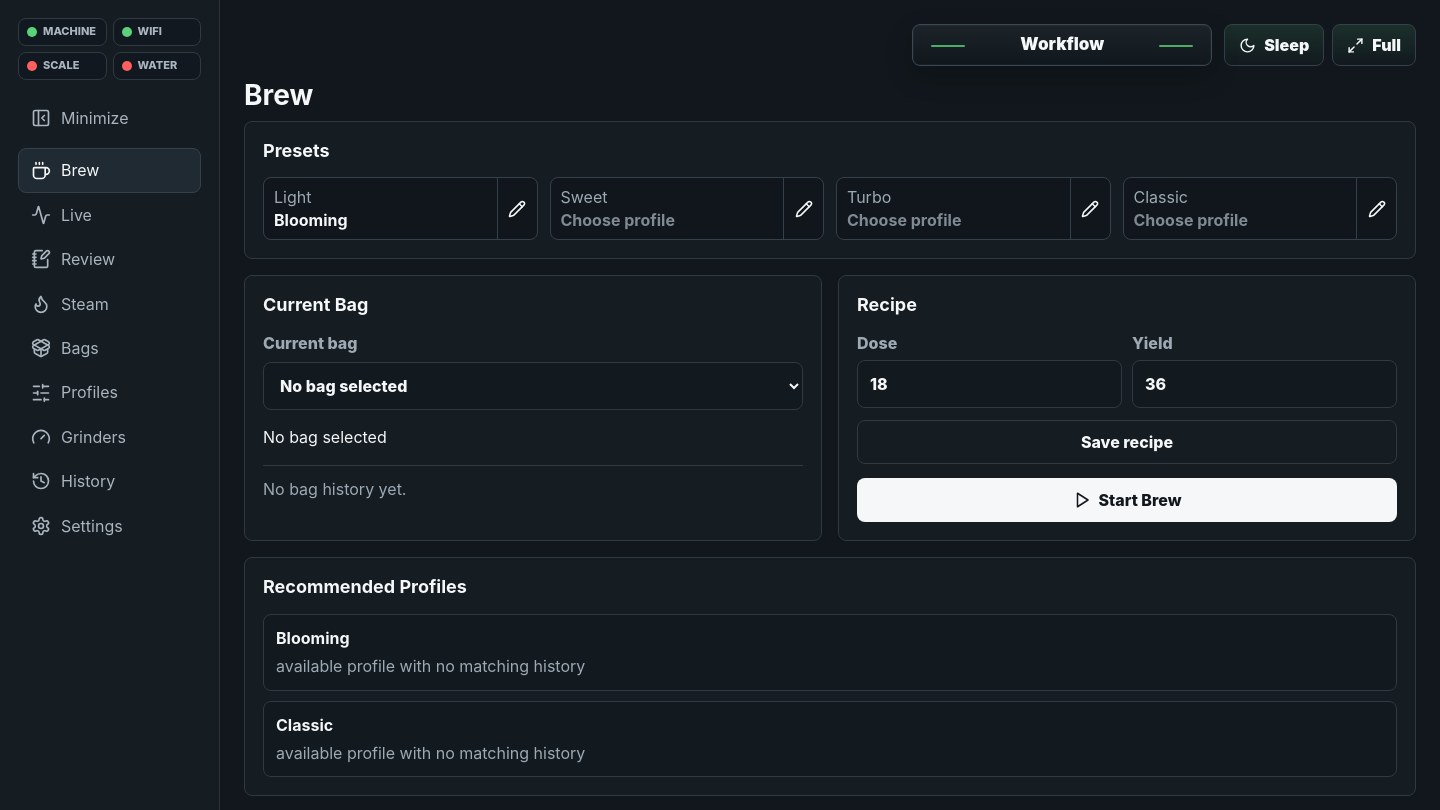
Scenario: App shell › edits main menu visibility and order from the sidebar
Click the button "Settings".
click(110, 526)  # box x1=18 y1=504 x2=201 y2=548
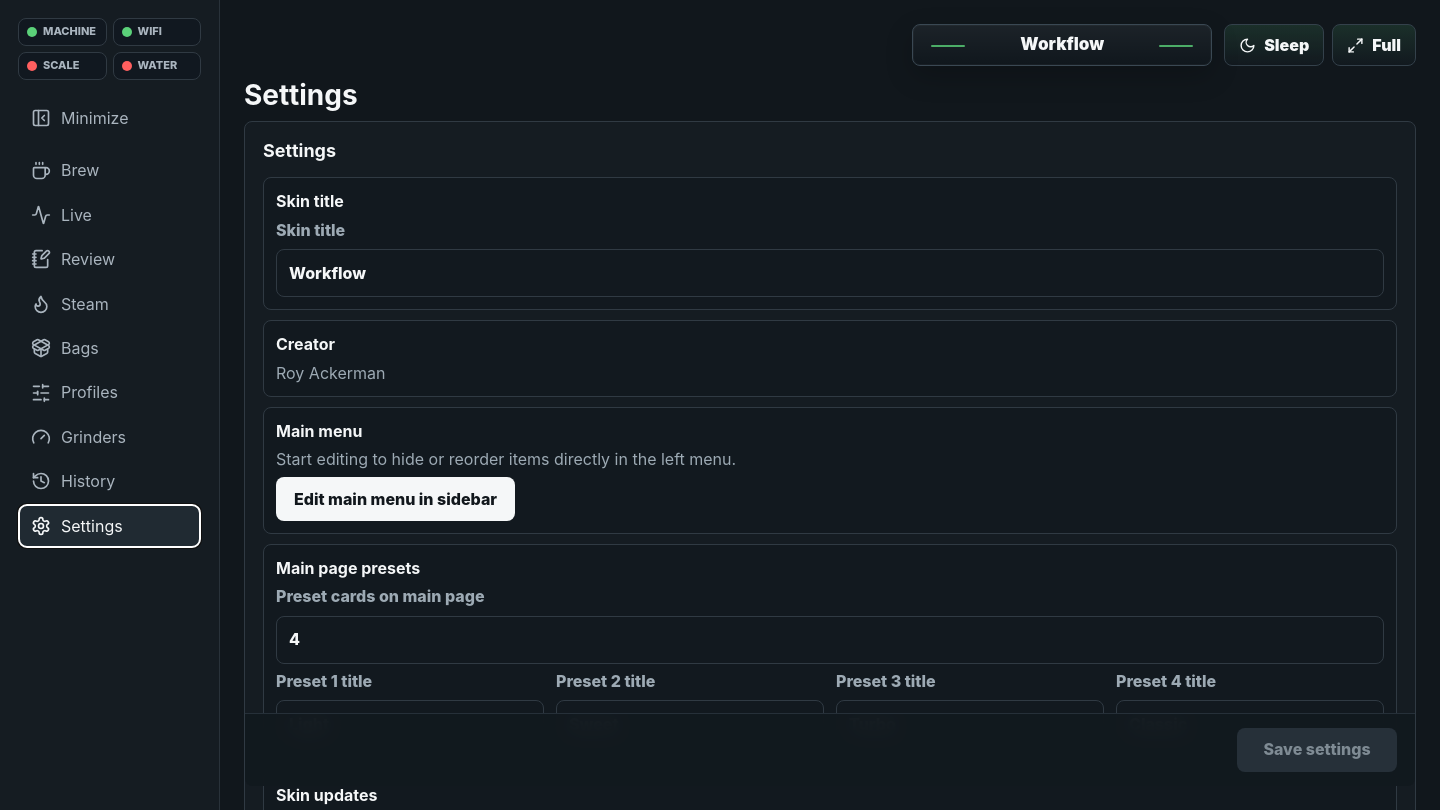
Click the button "Edit main menu in sidebar".
click(396, 499)  # box x1=276 y1=477 x2=515 y2=521
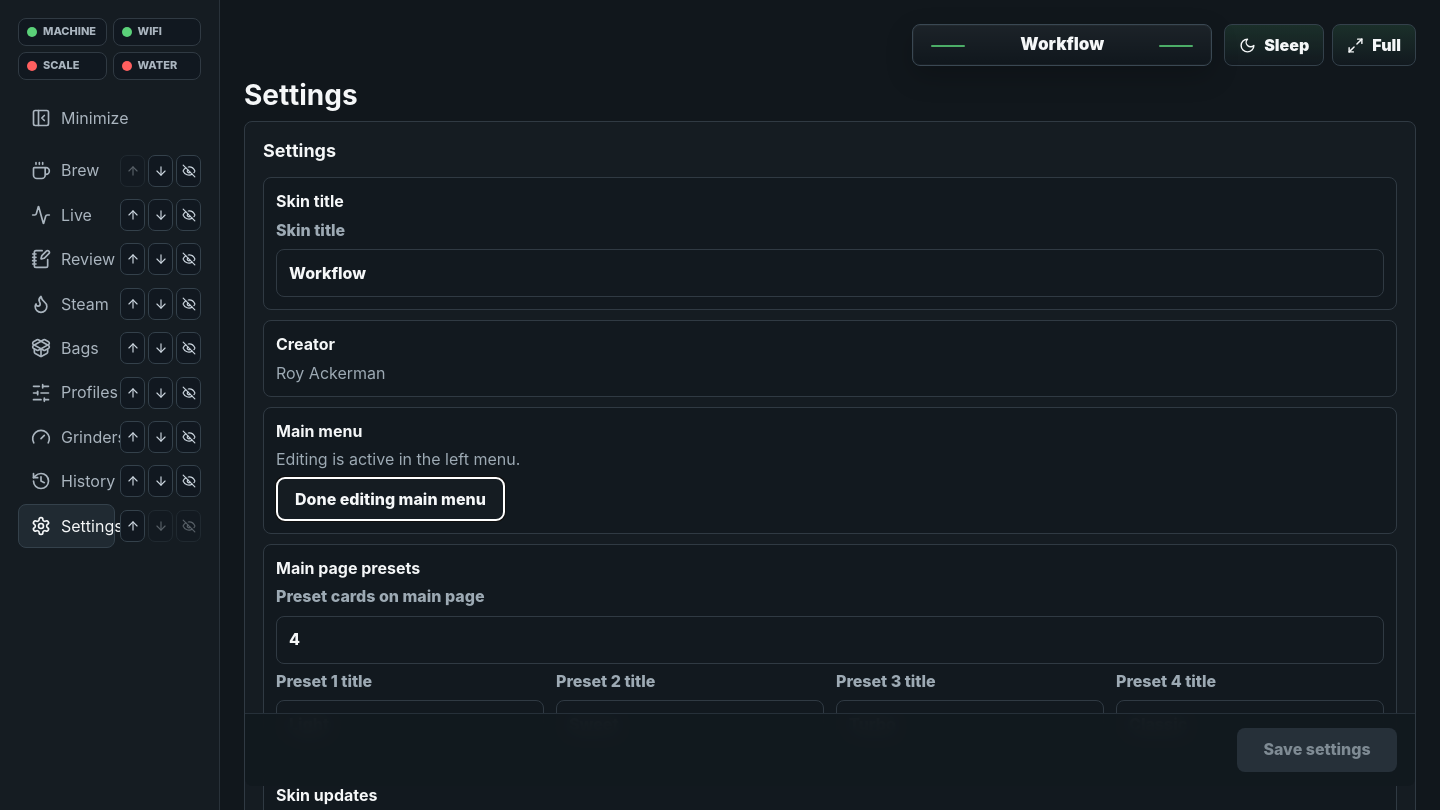
Click the button named "Move Grinders up".
click(132, 437)  # box x1=120 y1=421 x2=145 y2=453
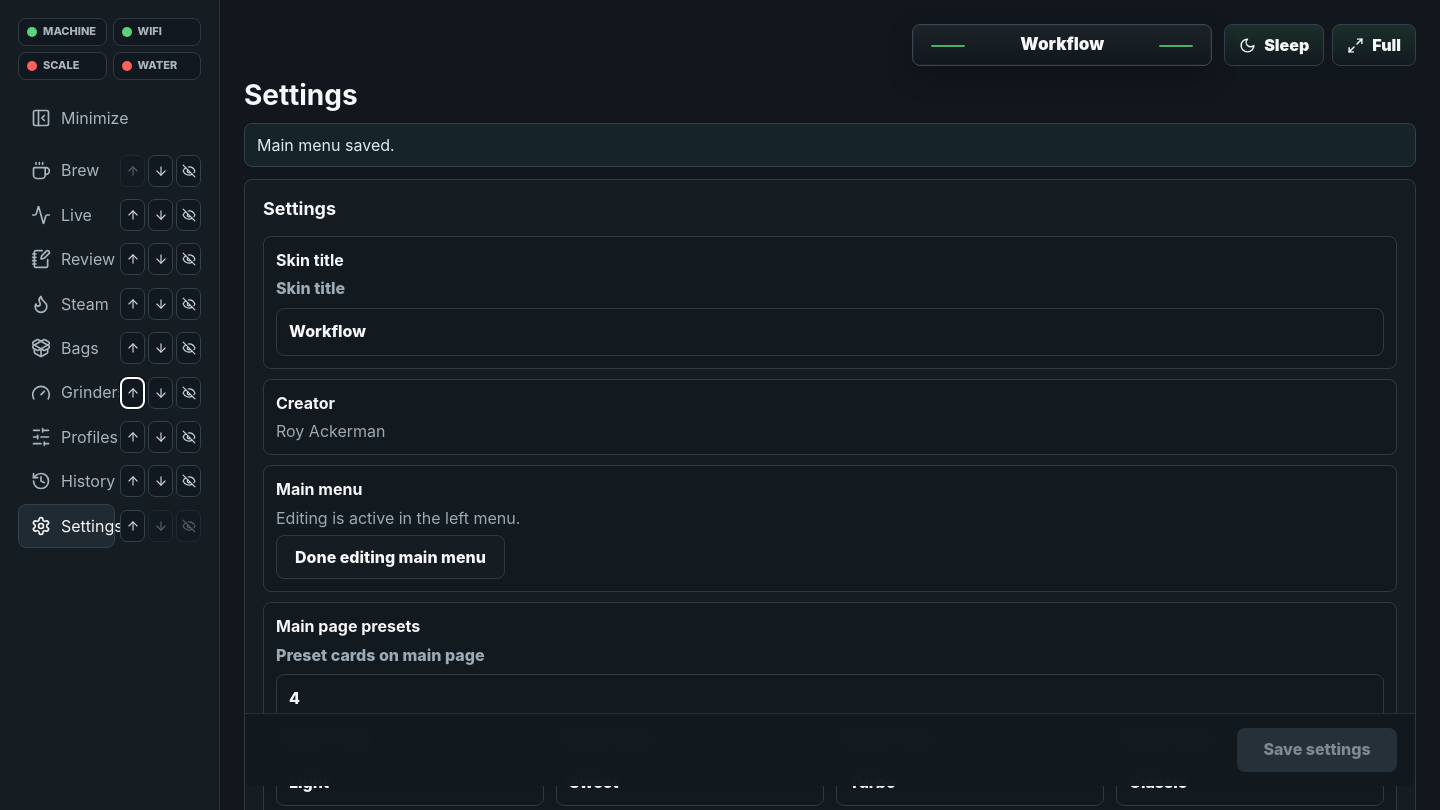
Click the button named "Hide History".
click(188, 481)  # box x1=176 y1=465 x2=201 y2=497
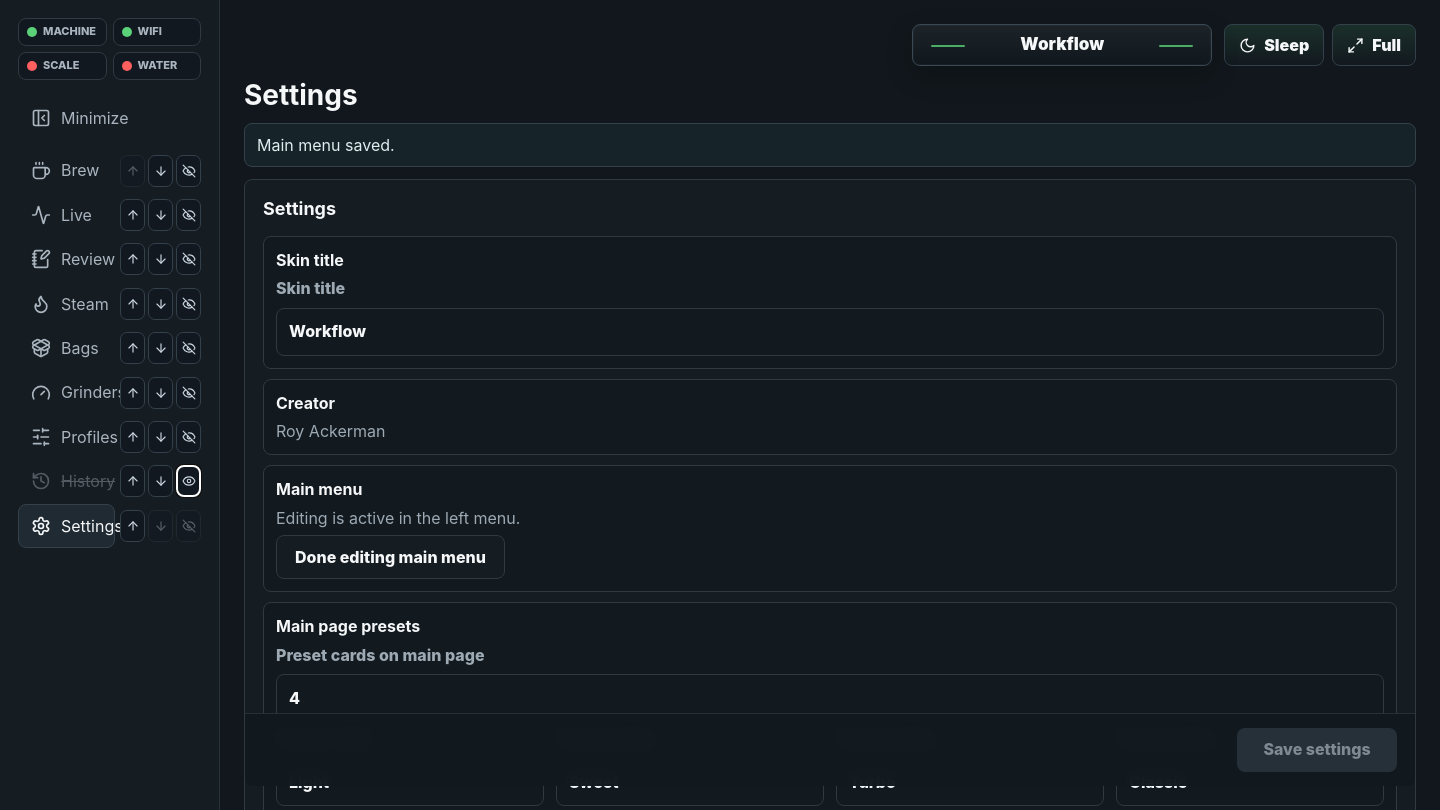
Now the button named "Show History" is shown, box x1=176 y1=465 x2=201 y2=497
